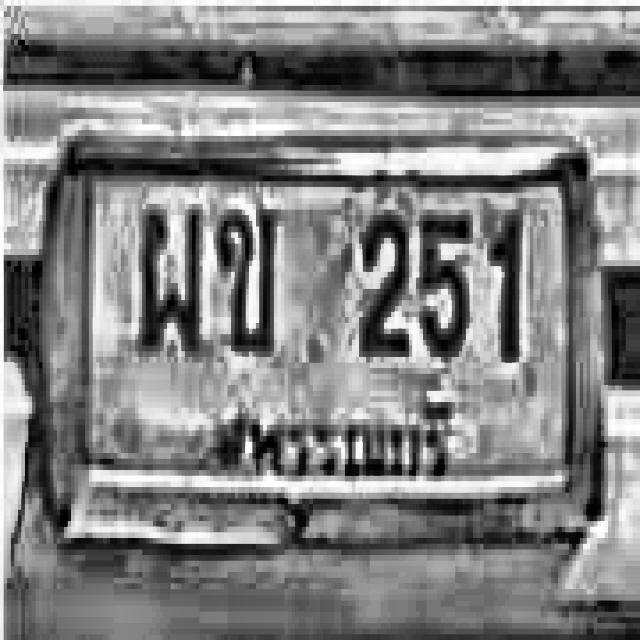license-plate: (33, 98, 604, 571)
